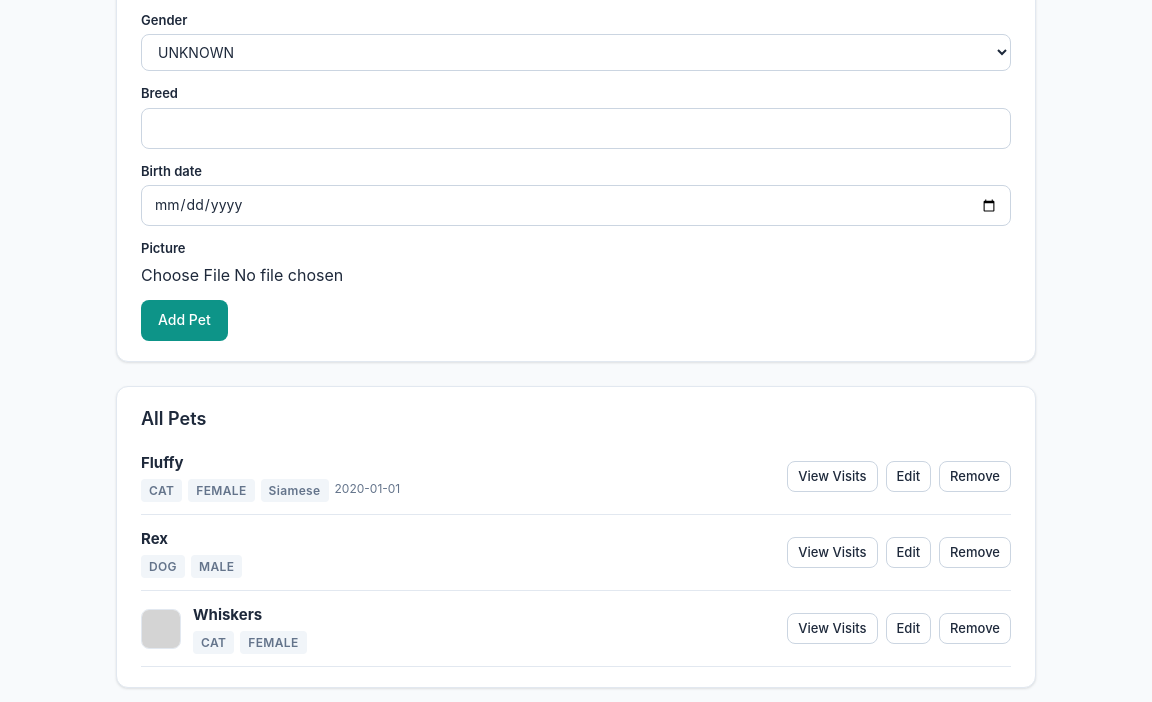
Test: PetsPage › clicking cancel while editing resets the form without submitting
The image size is (1152, 702).
(page scrolled)
Expected: the text "Fluffy" is shown, [141, 453, 184, 472]
What coordinates should you click on to do the following:
click the button "Edit" in the row of "Fluffy"
I would click on:
 (908, 476)
Its box is [886, 461, 931, 492].
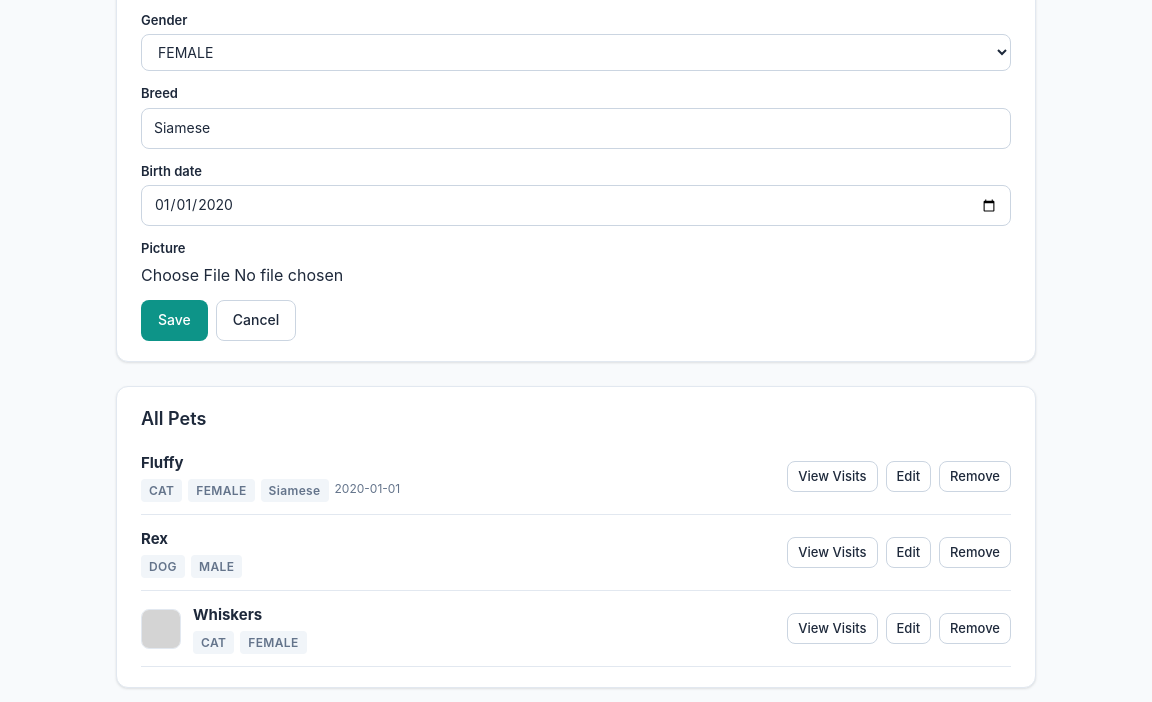
What coordinates should you click on to do the following:
click the button "Cancel"
I would click on:
 (256, 320)
Its box is [216, 300, 296, 340].
(page scrolled)
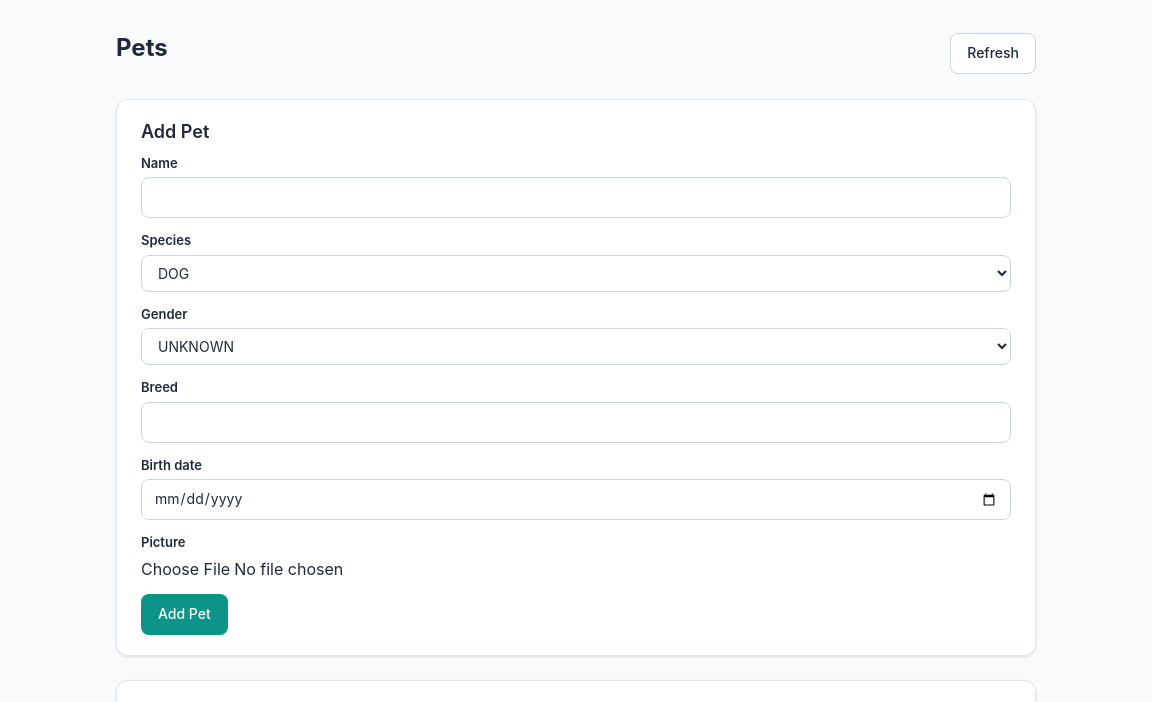
Expected: the field below "Name" is empty, [141, 177, 1011, 218]
Expected: the heading "Add Pet" is shown, [141, 121, 209, 142]
